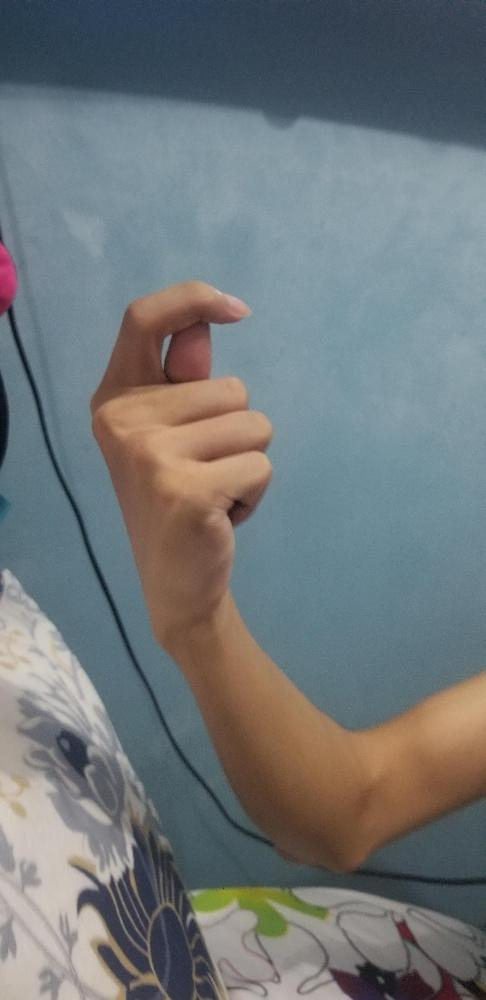t: (84, 276, 275, 649)
